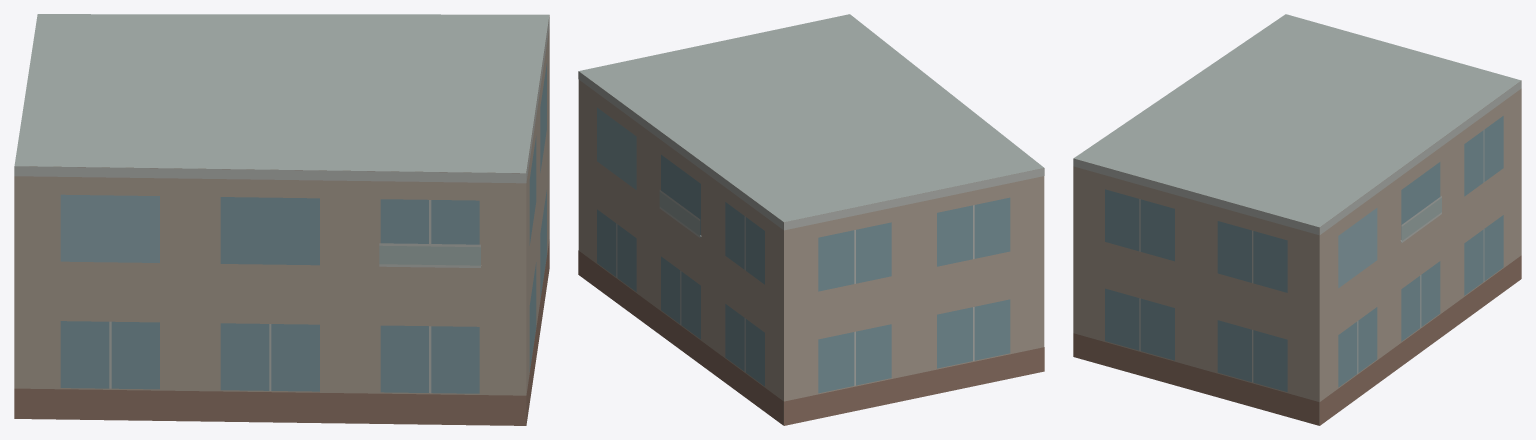
File: survey-upis-32771668.glb
3 views of the same model, side by side, from view 1: azimuth 30°, elevation 25°; view 2: azimuth 150°, elevation 25°; view 3: azimuth 270°, elevation 25° (orthographic). The views are drawn at different scales.
Parts seen in each view (by area): view 1: survey-upis-32771668.tmp; view 2: survey-upis-32771668.tmp; view 3: survey-upis-32771668.tmp.
Part boxes in pixels (x1,y1,x2,y2): survey-upis-32771668.tmp: [14, 14, 549, 425]; survey-upis-32771668.tmp: [578, 14, 1044, 425]; survey-upis-32771668.tmp: [1073, 14, 1521, 425].
Size of the model in its own units: 14.08 by 6.1 by 12.49.
